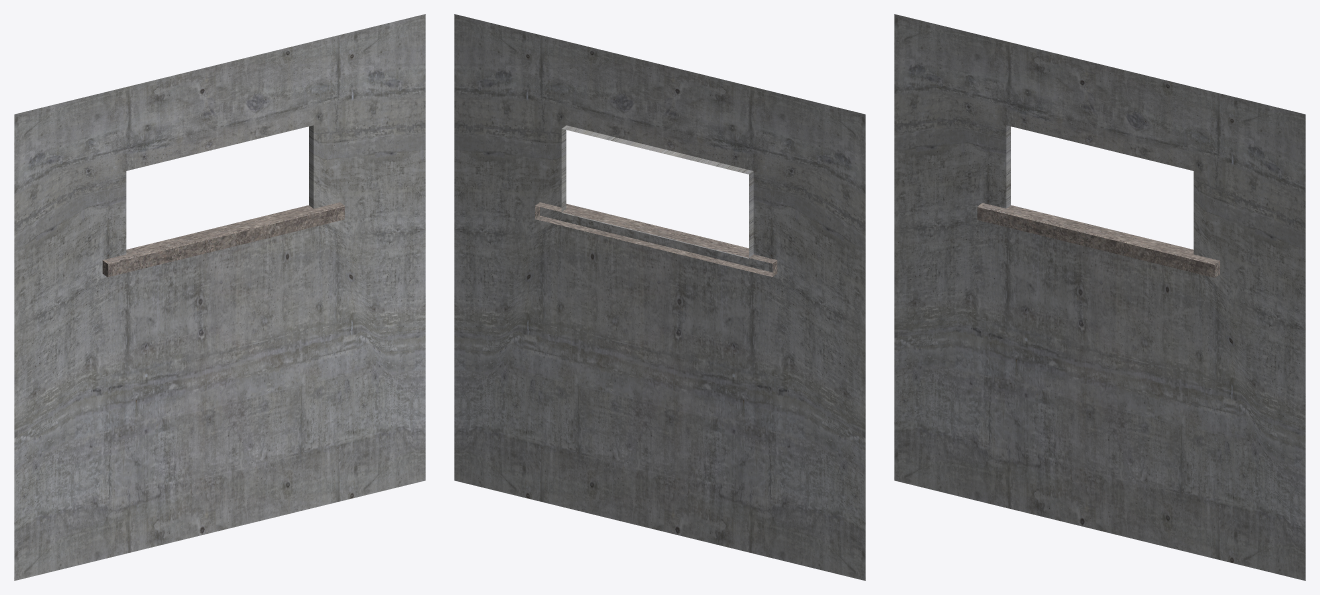
File: BUILDING_caveInteriorSingleWindow_01.FBX
3 views of the same model, side by side, from view 1: azimuth 30°, elevation 25°; view 2: azimuth 150°, elevation 25°; view 3: azimuth 330°, elevation 25° (orthographic).
Parts seen in each view (by area): view 1: BUILDING_caveInteriorSingleWindow_01; view 2: BUILDING_caveInteriorSingleWindow_01; view 3: BUILDING_caveInteriorSingleWindow_01.
Boxes of the visible parts, x1=… form: BUILDING_caveInteriorSingleWindow_01: x1=14, y1=14, x2=425, y2=580; BUILDING_caveInteriorSingleWindow_01: x1=454, y1=14, x2=865, y2=580; BUILDING_caveInteriorSingleWindow_01: x1=894, y1=14, x2=1305, y2=580.
Size of the model in its own units: 3.64 by 3.94 by 0.1549.
Materials: 2 (2 with a texture image).
